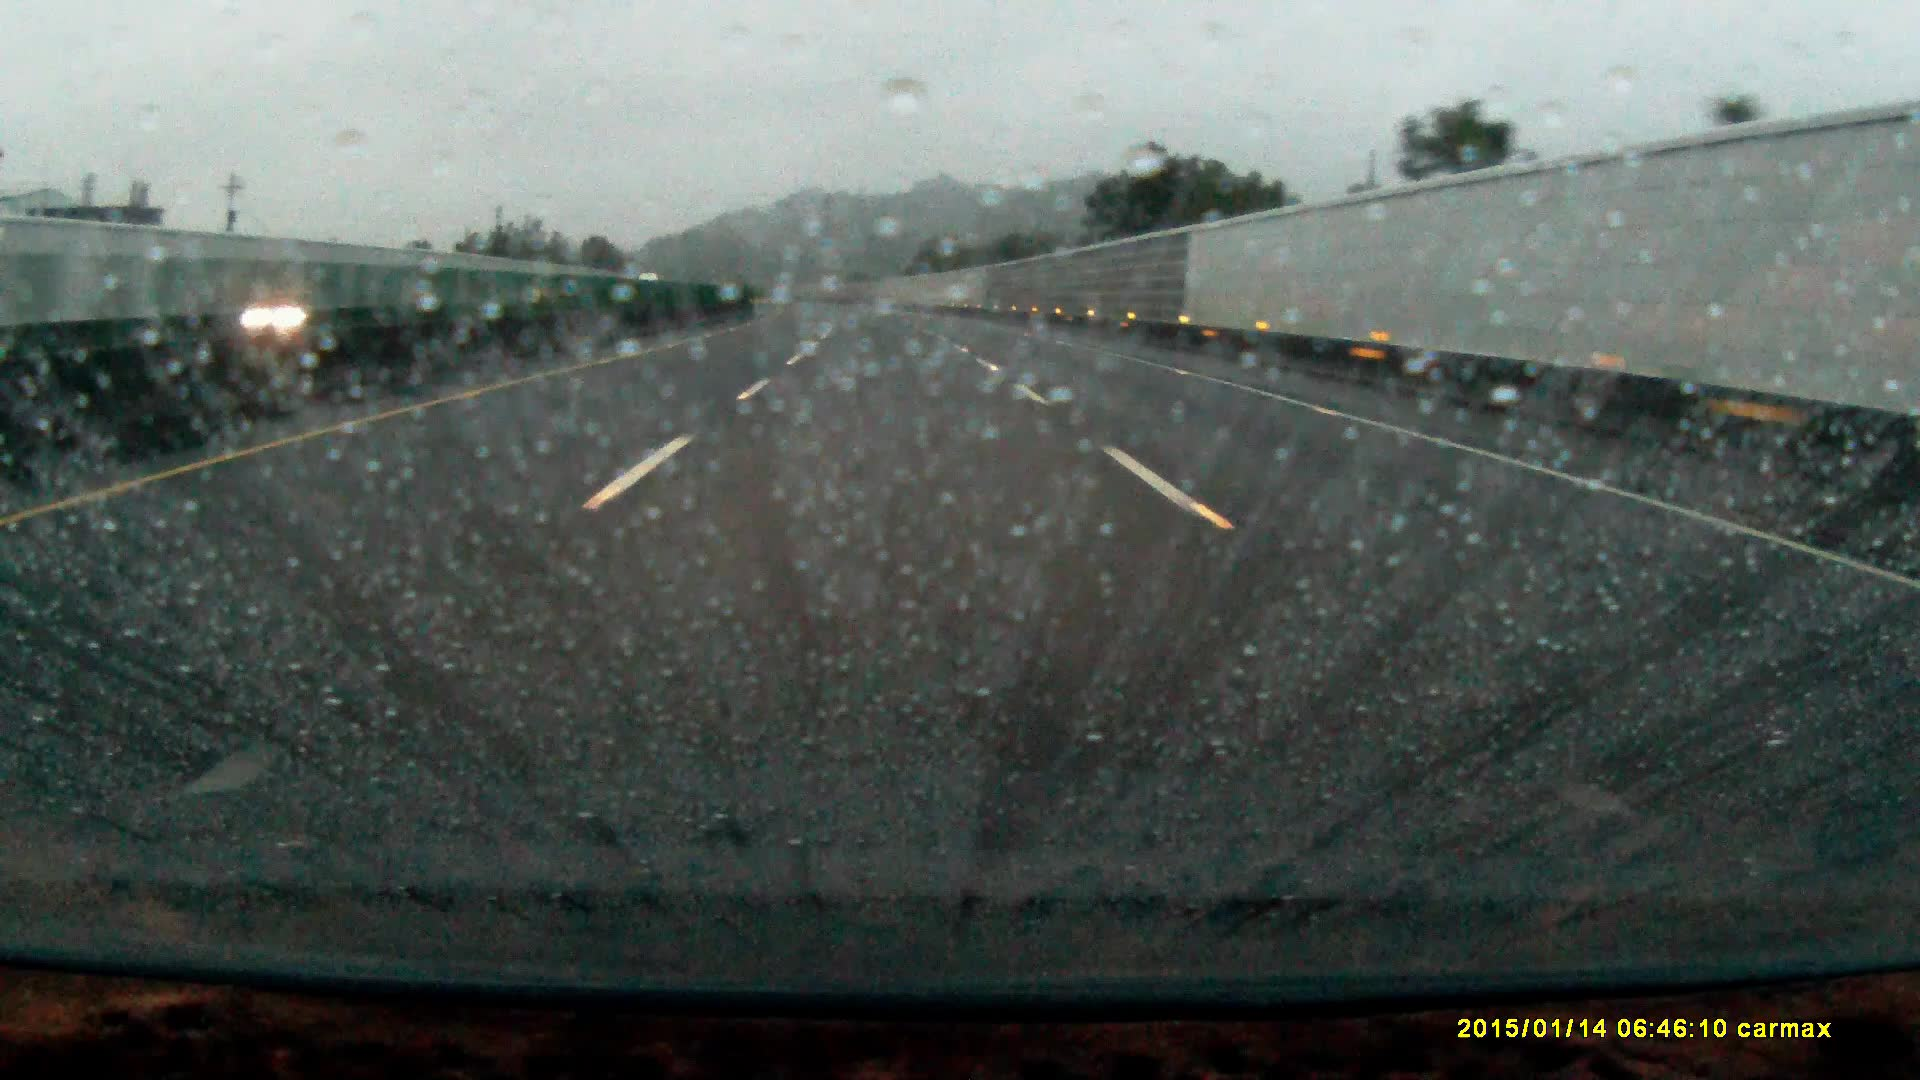vehicle: (243, 293, 318, 331)
